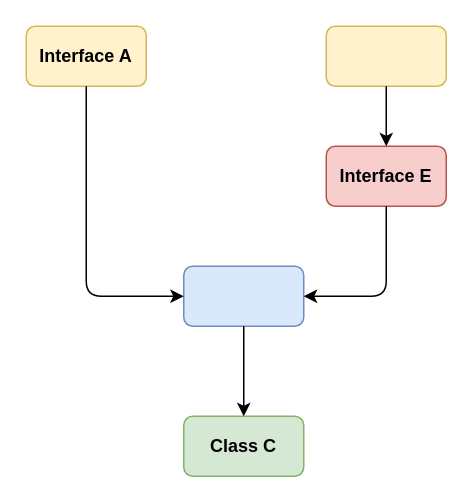
Image size: 473x503. Some labels were removed from this diagram. The shapes that lost their labels are listed below. From the top down, each one's centre as x and y in pixels, then its label:
the point at 385,55: Interface D
the point at 243,295: Class B
